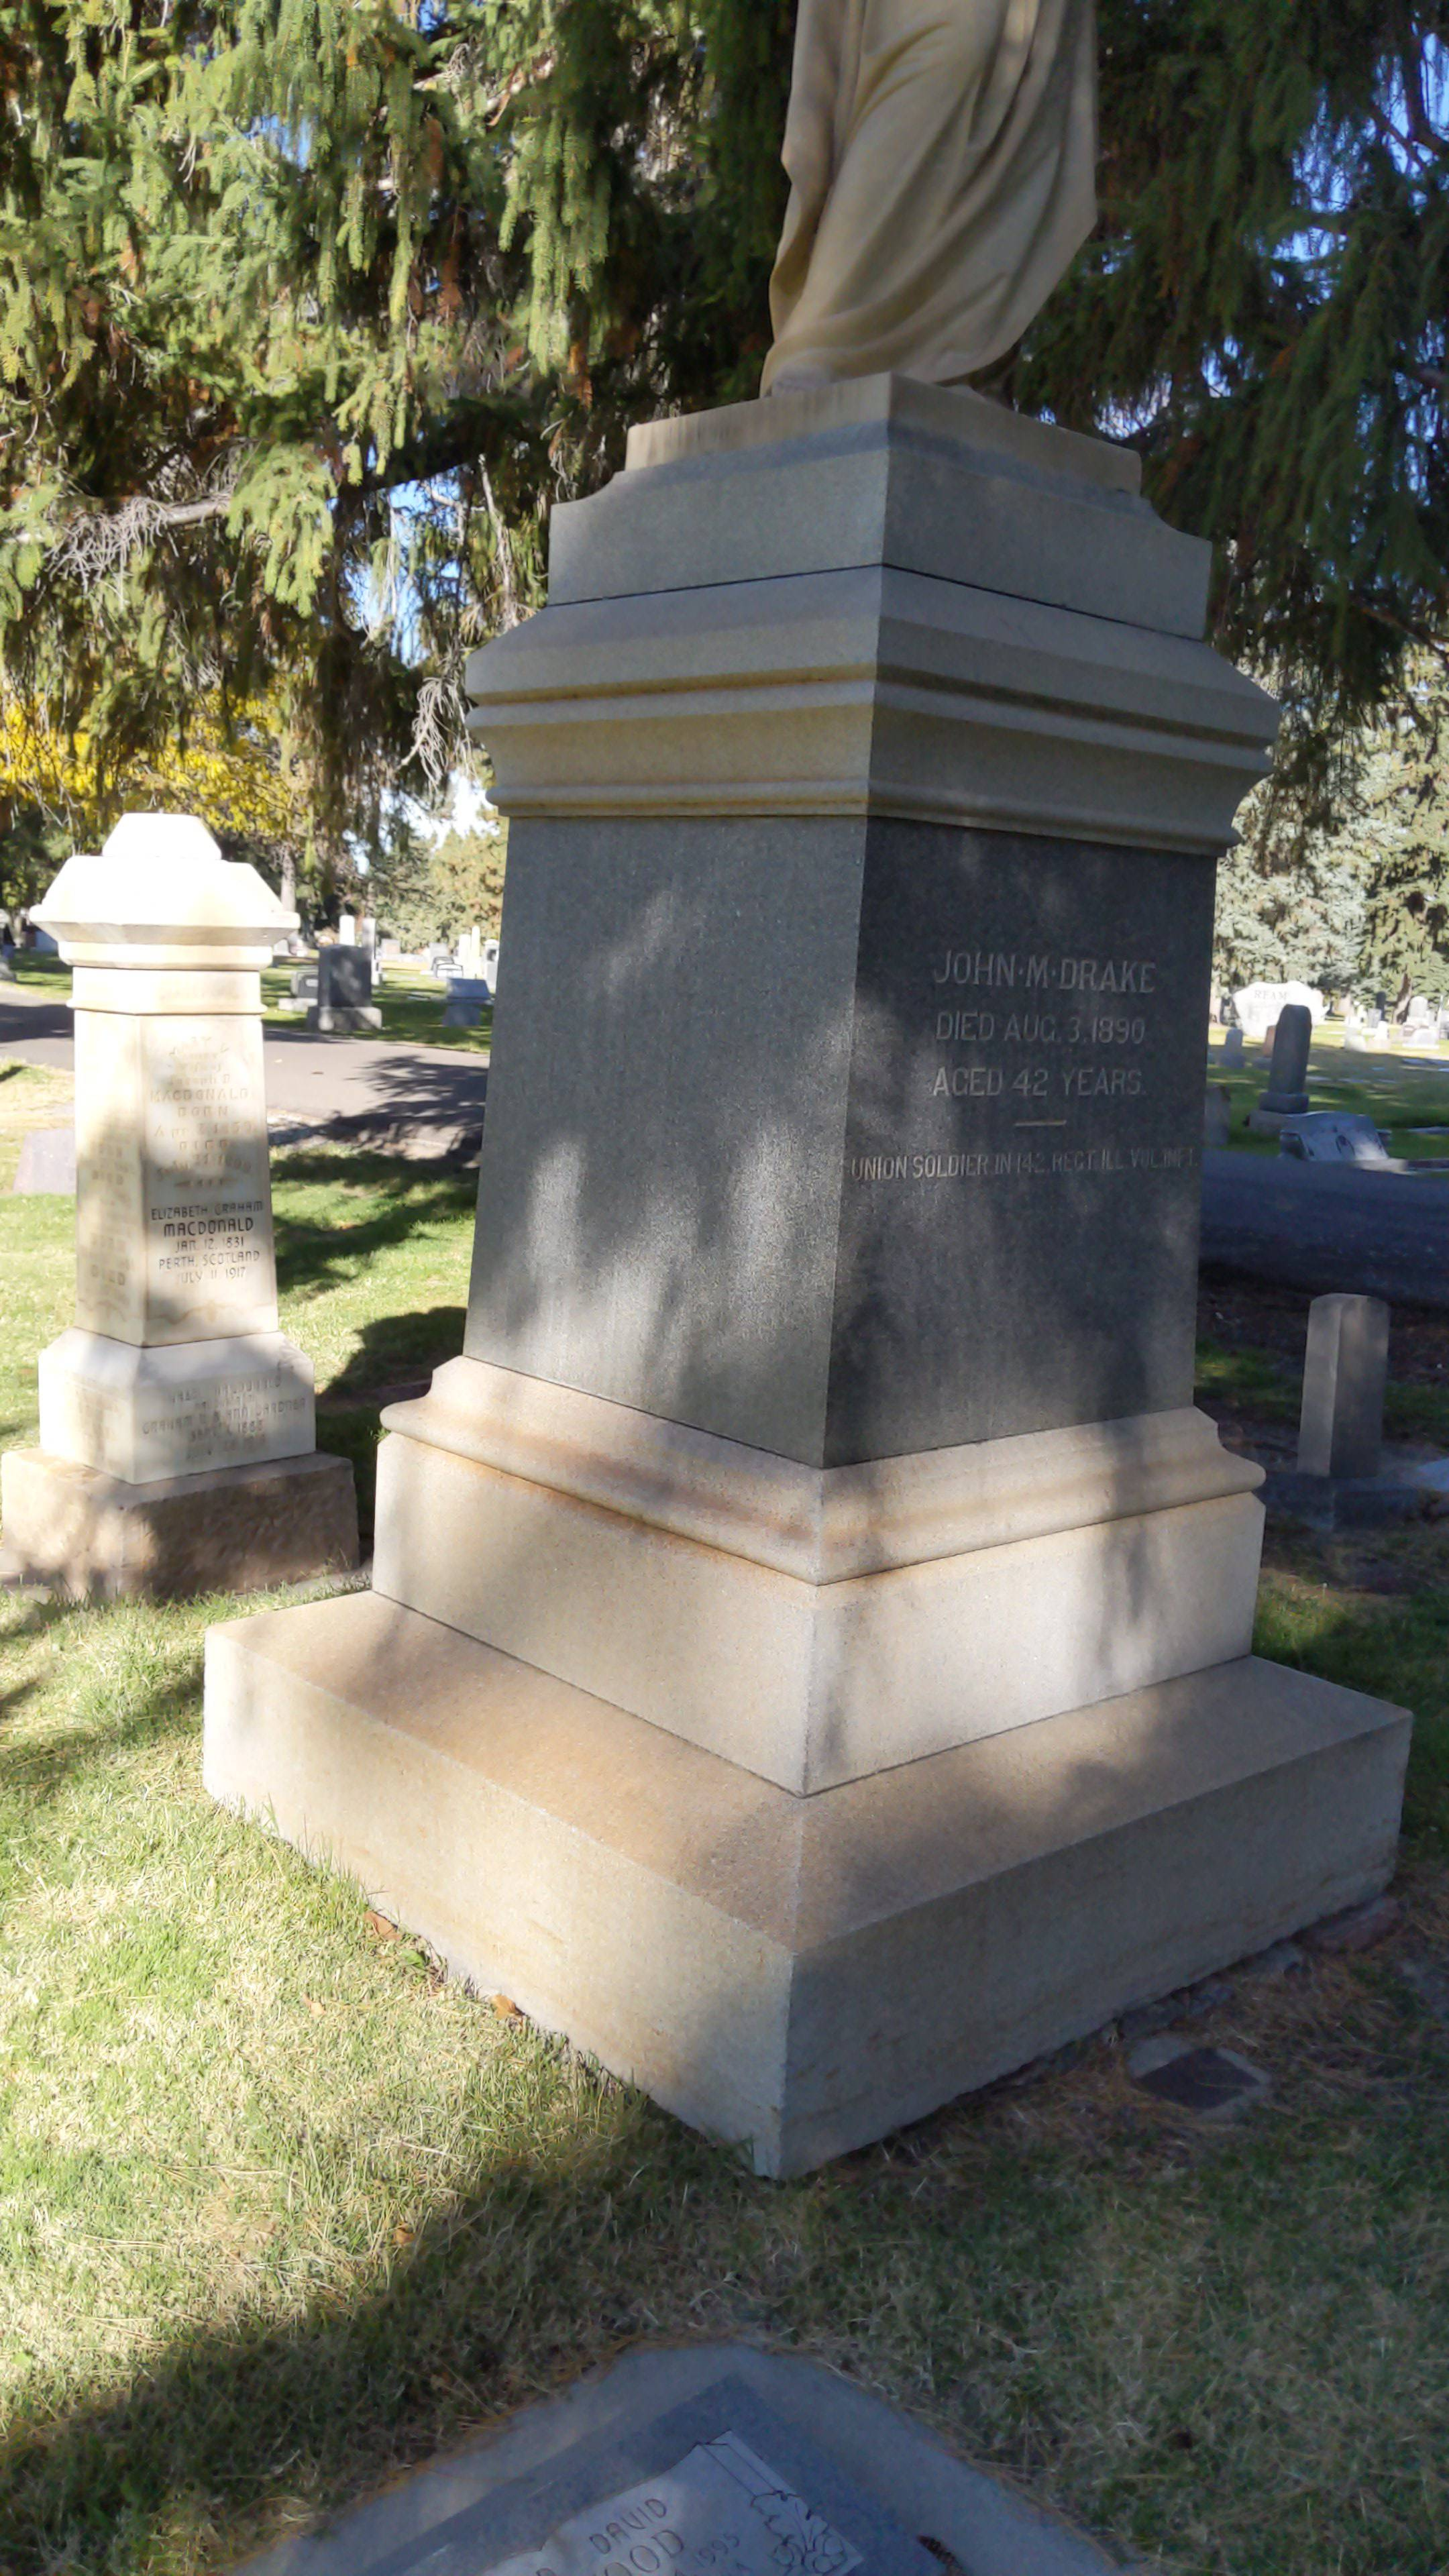obelisk: (377, 370, 1260, 1789)
